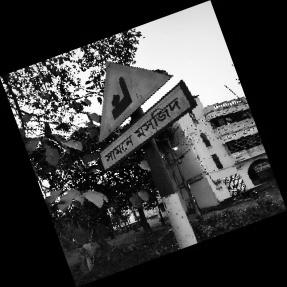Mosque in front: (96, 56, 196, 169)
